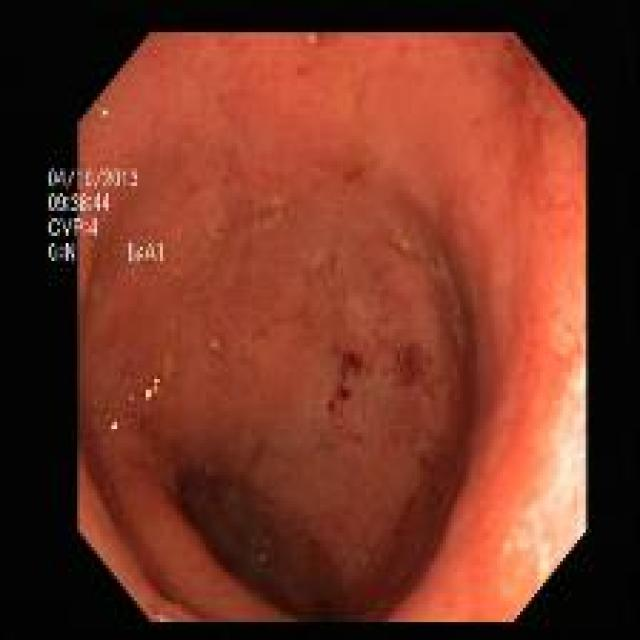ulcerative-colitis: (80, 34, 584, 619)
